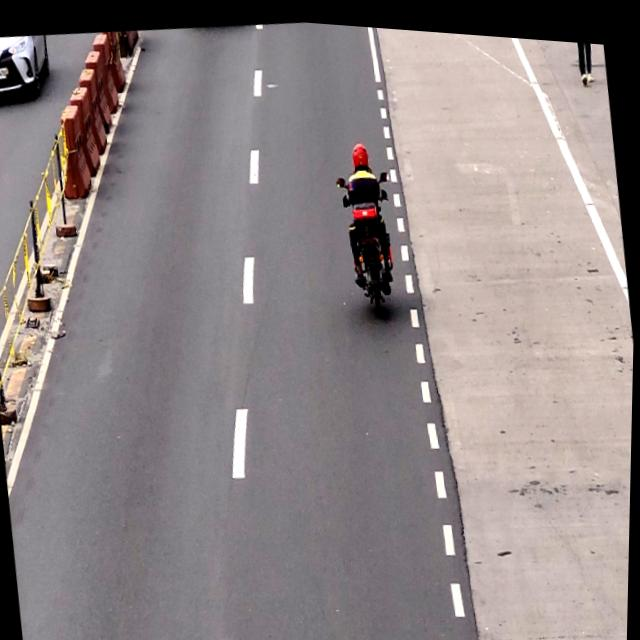Motorcycle: (337, 133, 401, 315)
